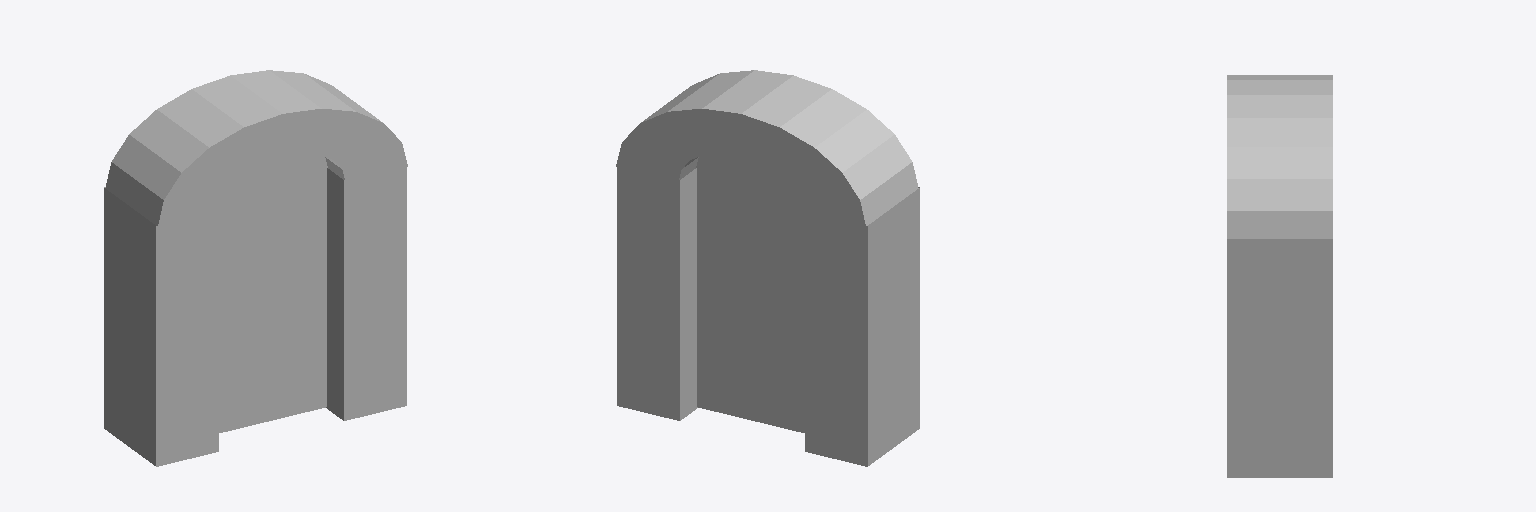
The model's file is door.obj.
The picture shows the model from 3 angles: view 1: azimuth 30°, elevation 25°; view 2: azimuth 150°, elevation 25°; view 3: azimuth 270°, elevation 25°; orthographic projection.
Visible parts, largest first — view 1: pCube3, pCube4; view 2: pCube3, pCube4; view 3: pCube3.
Boxes of the visible parts, x1=… form: pCube3: x1=104, y1=70, x2=407, y2=466; pCube4: x1=219, y1=153, x2=327, y2=432; pCube3: x1=616, y1=70, x2=919, y2=466; pCube4: x1=696, y1=153, x2=804, y2=432; pCube3: x1=1227, y1=75, x2=1332, y2=477.
Bounding box in the file's own units: 2.47 × 3.02 × 0.8934.